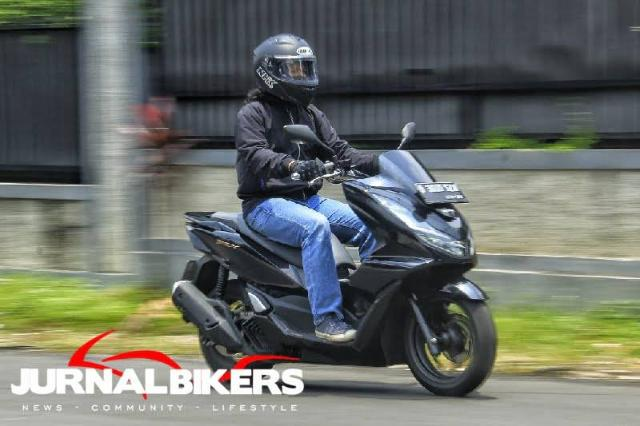helm: (248, 33, 326, 109)
motor: (176, 119, 508, 403)
